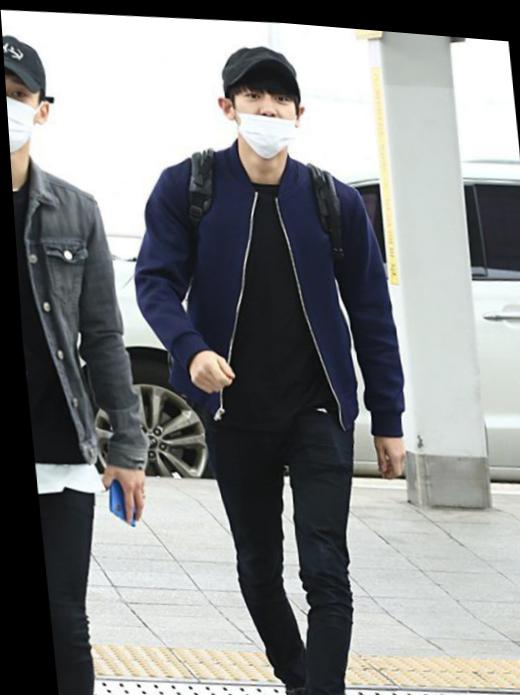OK: (5, 78, 49, 159)
WRONG: (227, 74, 303, 151)
